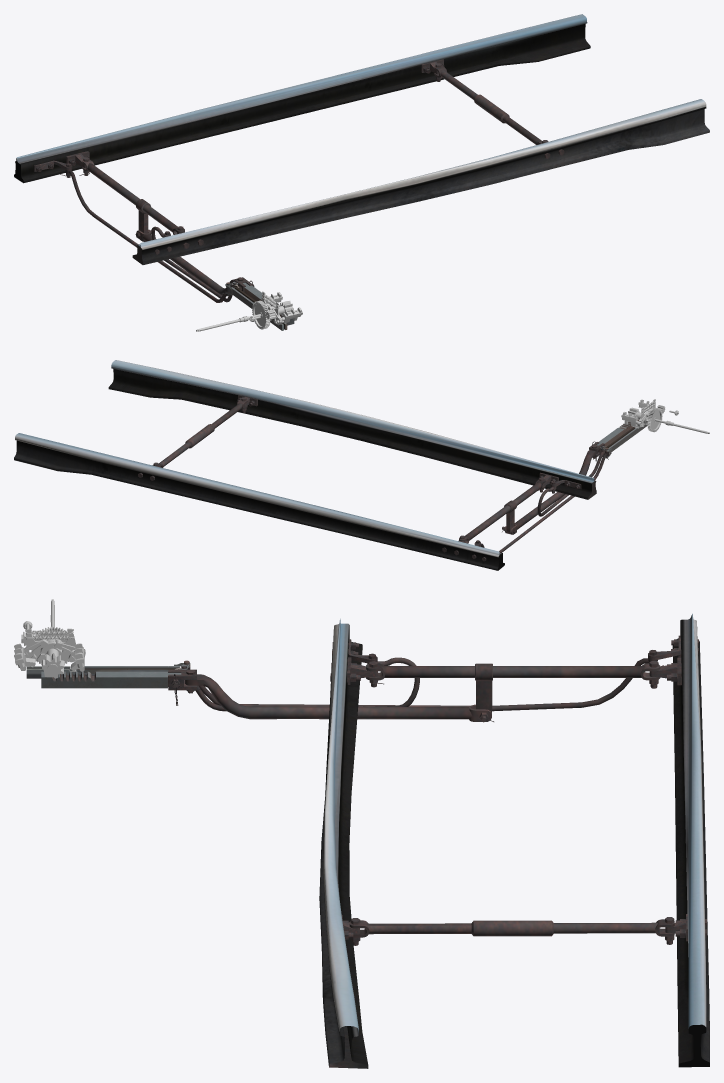
The model's file is sp6_ani_11_otk_StrelPlus_EngineMinus.fbx.
3 views of the same model, one above another, from view 1: azimuth 30°, elevation 25°; view 2: azimuth 150°, elevation 25°; view 3: azimuth 270°, elevation 25° (orthographic). The views are drawn at different scales.
Visible parts, largest first — view 1: ostr_left, ostr_right, soedenit_tyaga_1, soedenit_tyaga_2, tyag_contrl_long, rab_tyaga; view 2: ostr_right, ostr_left, soedenit_tyaga_1, soedenit_tyaga_2, rab_tyaga, tyag_contrl_long, tyag_contrl_short; view 3: ostr_right, ostr_left, soedenit_tyaga_2, soedenit_tyaga_1, rab_tyaga, shiber, tyag_contrl_long, shiber_val.
Boxes of the visible parts, x1,y1,x2,y2 form: ostr_left: (14, 14, 590, 183); ostr_right: (132, 99, 709, 264); soedenit_tyaga_1: (79, 157, 184, 234); soedenit_tyaga_2: (434, 63, 548, 144); tyag_contrl_long: (60, 163, 230, 302); rab_tyaga: (135, 229, 254, 296); ostr_right: (108, 360, 596, 499); ostr_left: (14, 433, 504, 570); soedenit_tyaga_1: (459, 477, 545, 543); soedenit_tyaga_2: (152, 397, 247, 467); rab_tyaga: (502, 441, 604, 534); tyag_contrl_long: (476, 451, 608, 552); tyag_contrl_short: (537, 450, 604, 516); ostr_right: (319, 618, 377, 1068); ostr_left: (648, 613, 709, 1067); soedenit_tyaga_2: (349, 917, 674, 945); soedenit_tyaga_1: (366, 661, 660, 712); rab_tyaga: (168, 669, 493, 722); shiber: (41, 671, 181, 688); tyag_contrl_long: (188, 650, 663, 711); shiber_val: (40, 639, 65, 678).
Bounding box in the file's own units: 4.07 × 0.3386 × 2.71.
